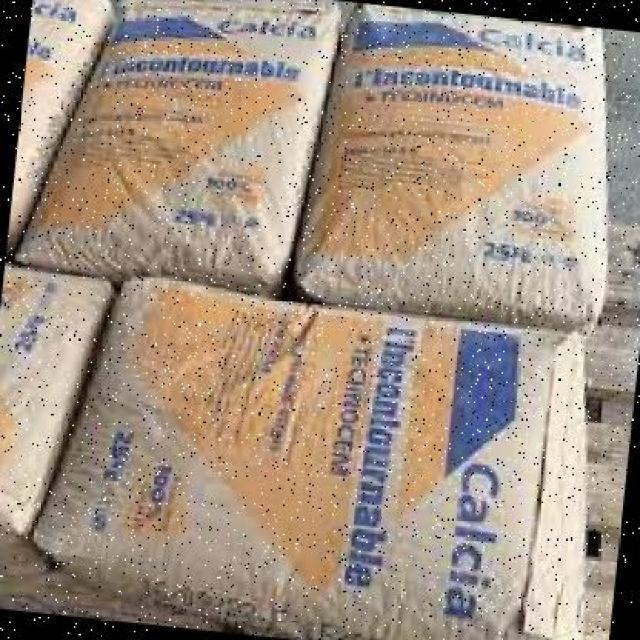gunny_bag: (38, 269, 580, 640), (10, 1, 339, 292), (300, 3, 597, 320), (0, 254, 116, 528), (12, 0, 97, 191), (0, 572, 219, 631)
